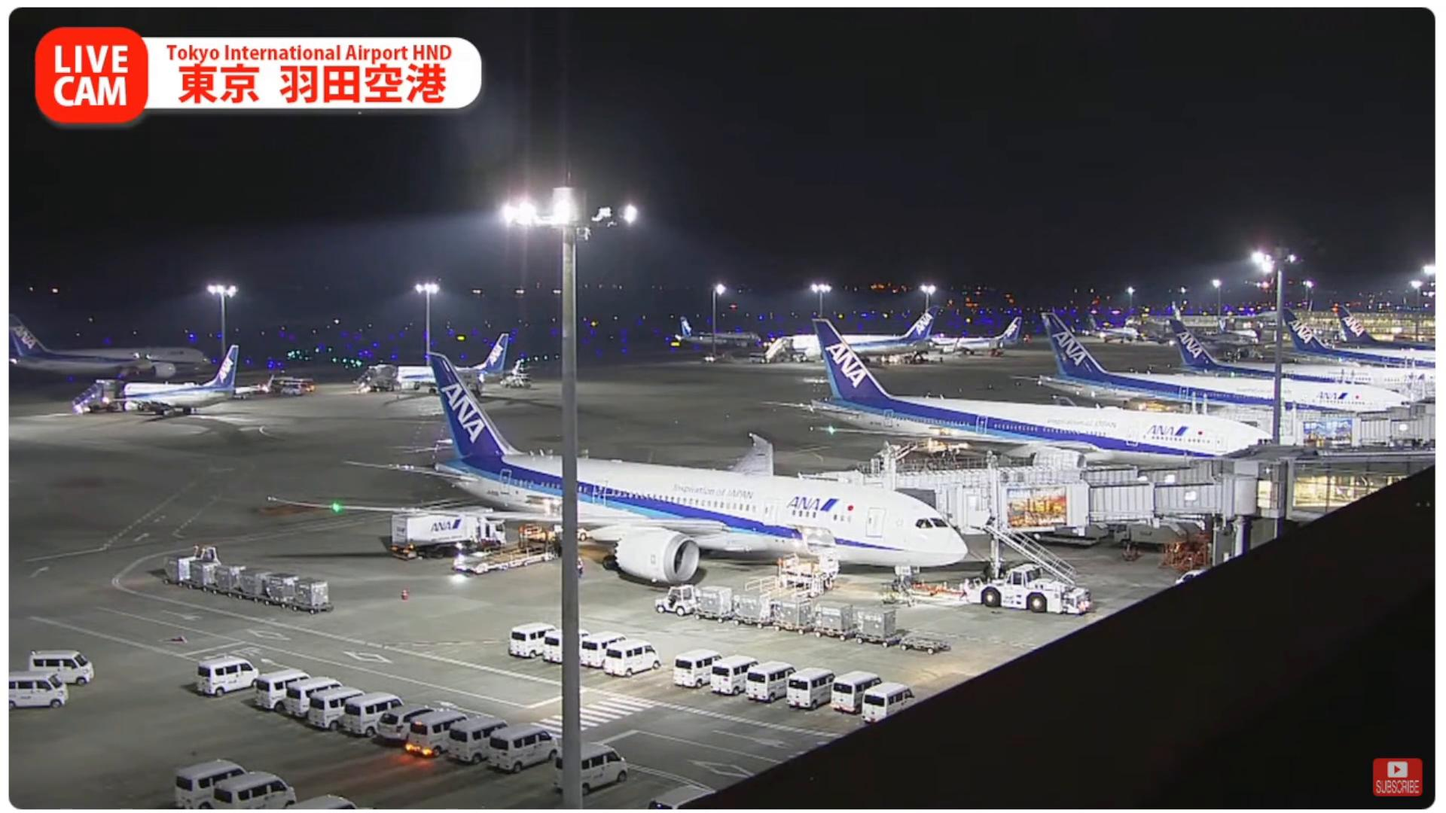APS: (961, 562, 1094, 614)
Aerobridge: (895, 475, 1256, 534), (800, 456, 1224, 487)
Airplane: (269, 351, 970, 589)
Catering: (392, 510, 505, 560)
Dolly: (699, 584, 950, 655), (164, 551, 329, 614)
JCPL: (450, 521, 561, 574)
Tractor: (657, 583, 699, 615)
Window: (1290, 455, 1437, 521)
